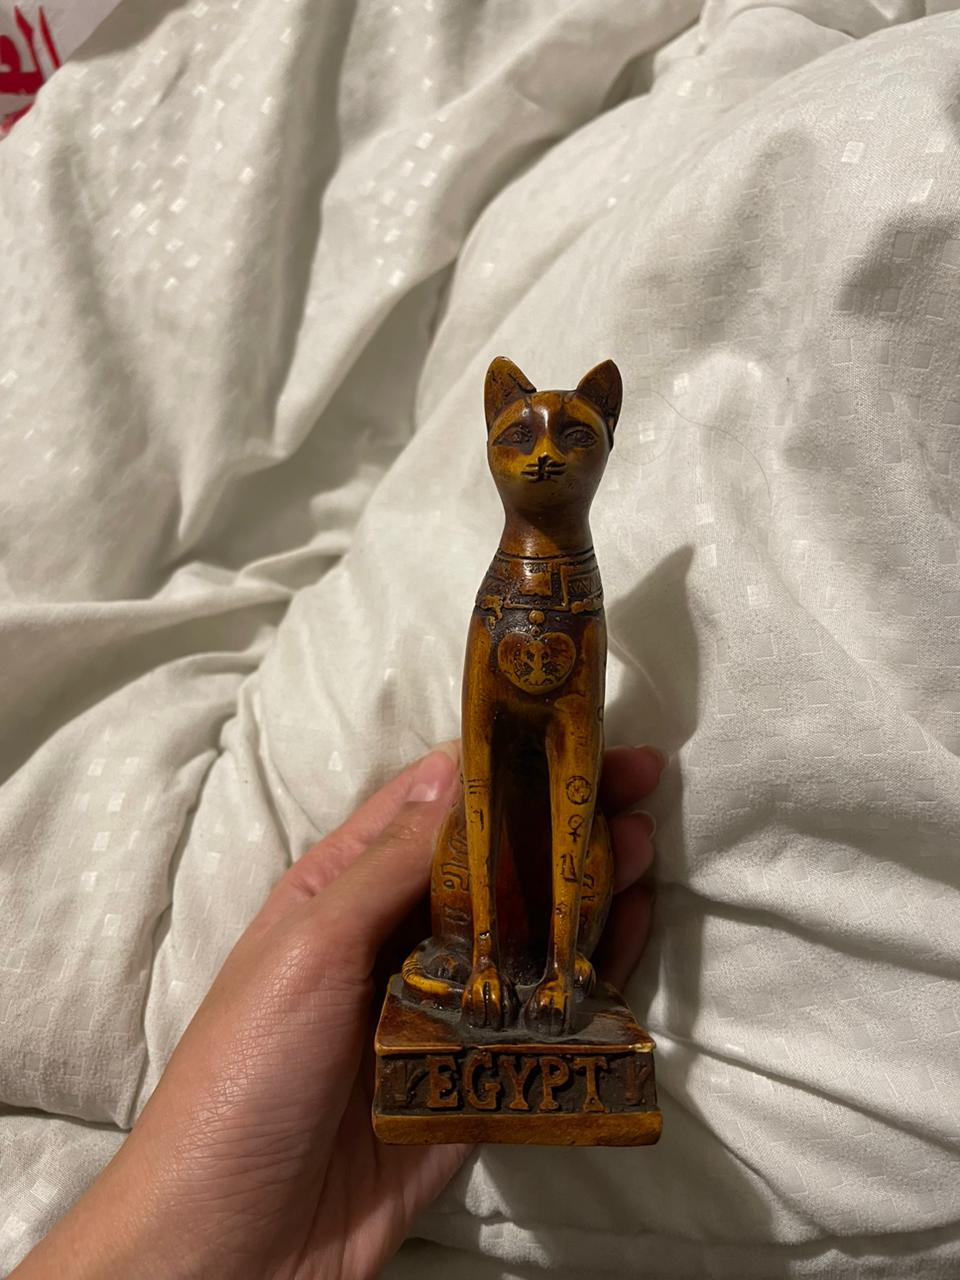Past: (372, 350, 653, 1157)
